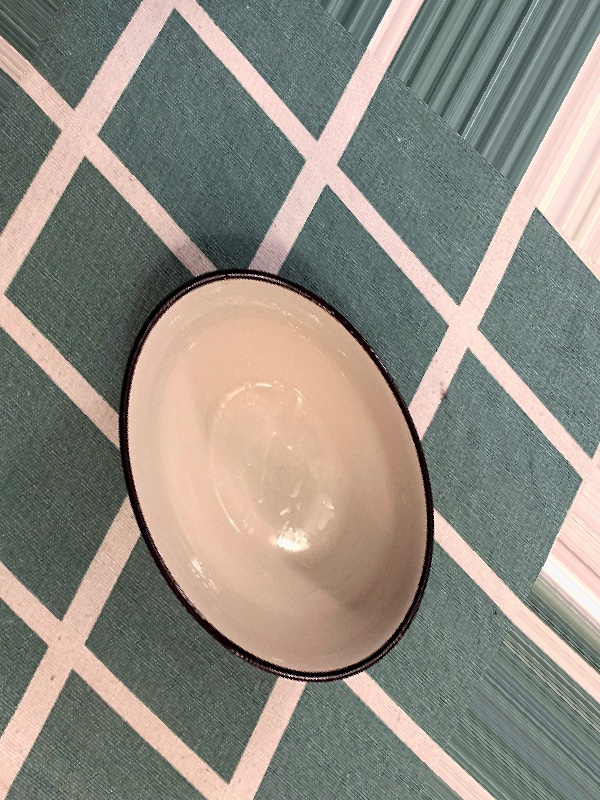bowl_small: (40, 163, 493, 778)
